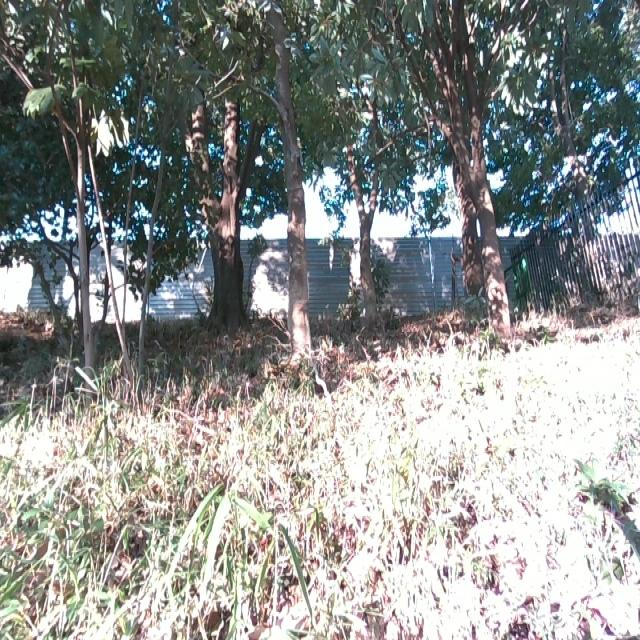artifact: (0, 168, 640, 320)
tree: (0, 0, 160, 405), (395, 0, 515, 341), (243, 0, 323, 379), (173, 0, 257, 330), (336, 0, 394, 338)
